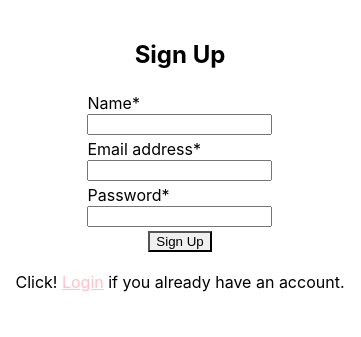
SignUpPage › displays error message for invalid email format
Step 1. Type "invalidemail" into the field with test id "email" → (180,170), box [88,160,272,181]
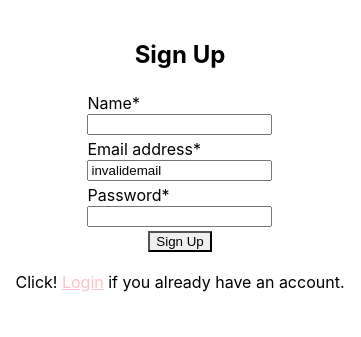
Step 2. Click the button with test id "signupBtn" → (180,241), box [148,231,212,252]
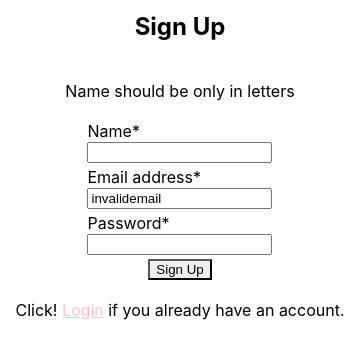
Check: the text with test id "error" is shown, box [65,81,295,101]
